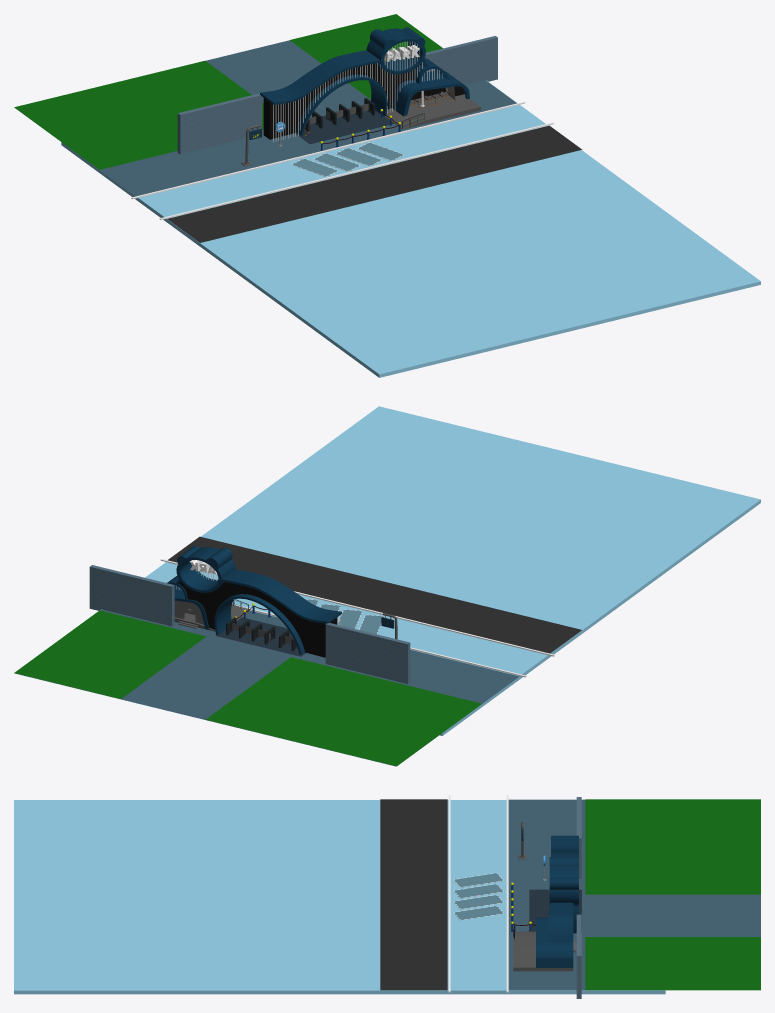
Rendered from mergejam_env02(park).fbx.
3 views of the same model, one above another, from view 1: azimuth 30°, elevation 25°; view 2: azimuth 150°, elevation 25°; view 3: azimuth 270°, elevation 25° (orthographic). The views are drawn at different scales.
Visible parts, largest first — view 1: main_base001, Plane001, road001, house_floor001, wall, pCube9, pCube45, curb001, pCylinder99, pCylinder8, polySurface1, house_floor_003 (+2 smaller); view 2: main_base001, Plane001, house_floor001, road001, wall, pCube9, pCube45, pCylinder8, curb001, pCube8, house_floor_003, entrance; view 3: main_base001, Plane001, house_floor001, road001, pCube9, pCylinder8, curb001, polySurface1, wall, house_floor_003, vehicle_stand004, vehicle_stand005 (+2 smaller).
Part boxes in pixels (x1,y1,x2,y2): main_base001: (61, 80, 760, 377); Plane001: (14, 14, 442, 169); road001: (168, 125, 581, 242); house_floor001: (25, 40, 516, 196); wall: (177, 36, 497, 154); pCube9: (260, 50, 469, 116); pCube45: (263, 63, 421, 139); curb001: (131, 101, 553, 219); pCylinder99: (273, 41, 442, 142); pCylinder8: (366, 27, 425, 74); polySurface1: (385, 95, 480, 129); house_floor_003: (295, 109, 394, 144); main_base001: (100, 406, 760, 735); Plane001: (14, 610, 481, 766); house_floor001: (15, 609, 519, 766); road001: (168, 536, 581, 653); wall: (89, 565, 410, 683); pCube9: (167, 569, 341, 629); pCube45: (179, 581, 337, 657); pCylinder8: (176, 546, 235, 592); curb001: (160, 559, 554, 677); pCube8: (214, 594, 304, 654); house_floor_003: (215, 617, 306, 656); entrance: (226, 617, 297, 650); main_base001: (14, 800, 665, 994); Plane001: (585, 799, 760, 990); house_floor001: (508, 799, 760, 990); road001: (380, 799, 447, 990); pCube9: (536, 835, 578, 967); pCylinder8: (549, 857, 578, 905); curb001: (448, 795, 508, 992); polySurface1: (513, 931, 573, 971); wall: (576, 797, 581, 998); house_floor_003: (529, 889, 581, 931); vehicle_stand004: (454, 873, 503, 887); vehicle_stand005: (454, 884, 503, 898).
Size of the model in its own units: 101 by 159 by 19.33.
22 materials, 2 textured.
